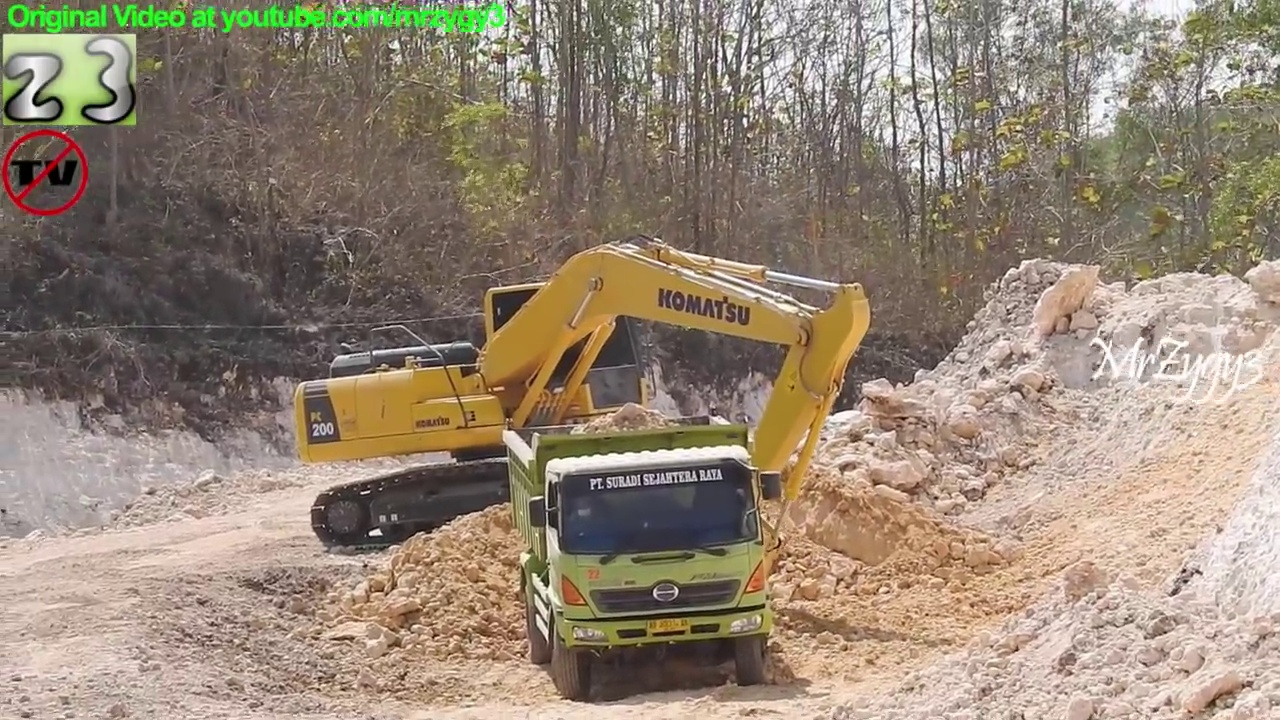excavator: (286, 228, 879, 606)
truck: (493, 402, 791, 706)
